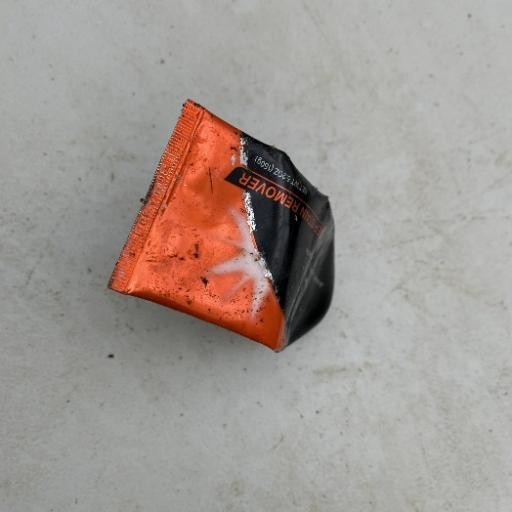Plastic: (105, 96, 338, 354)
